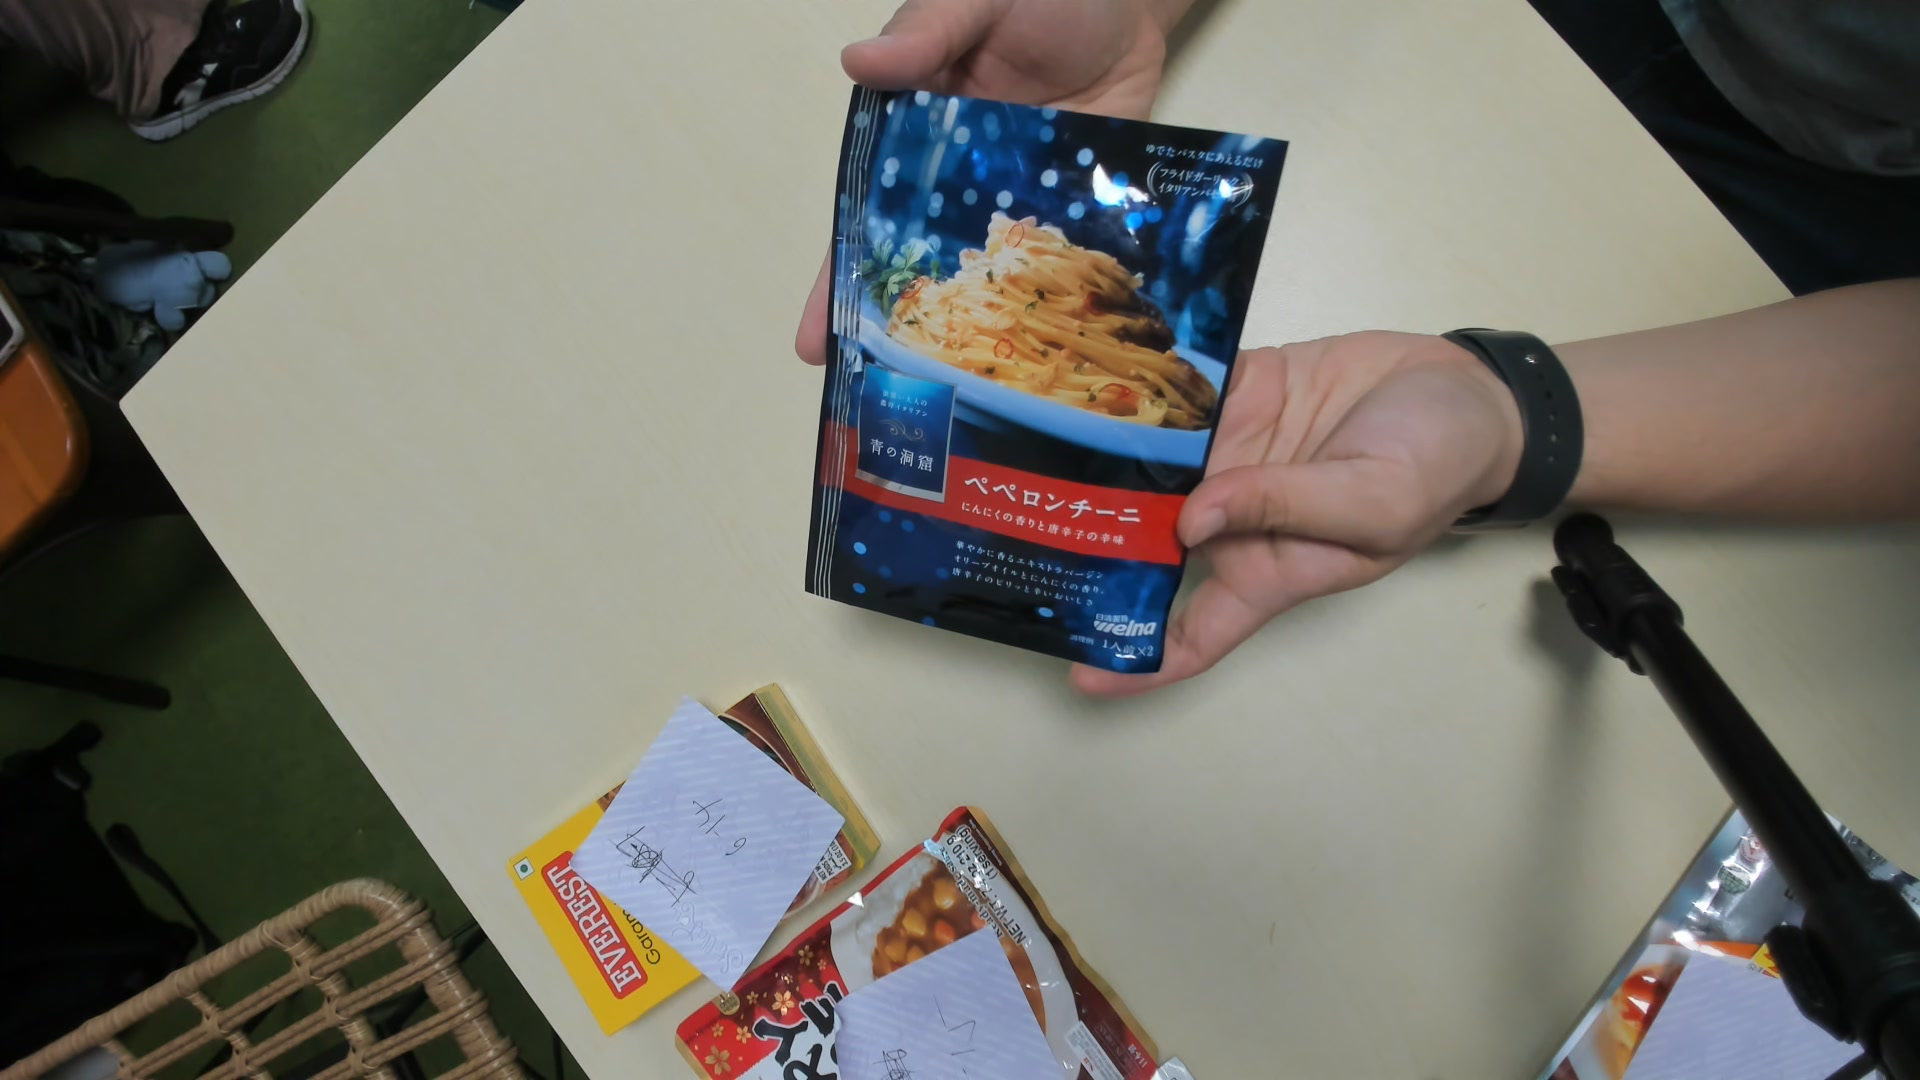CurryPastePowderSauce_0-99g_NonHalal_NonHealthy: (811, 76, 1284, 676)
